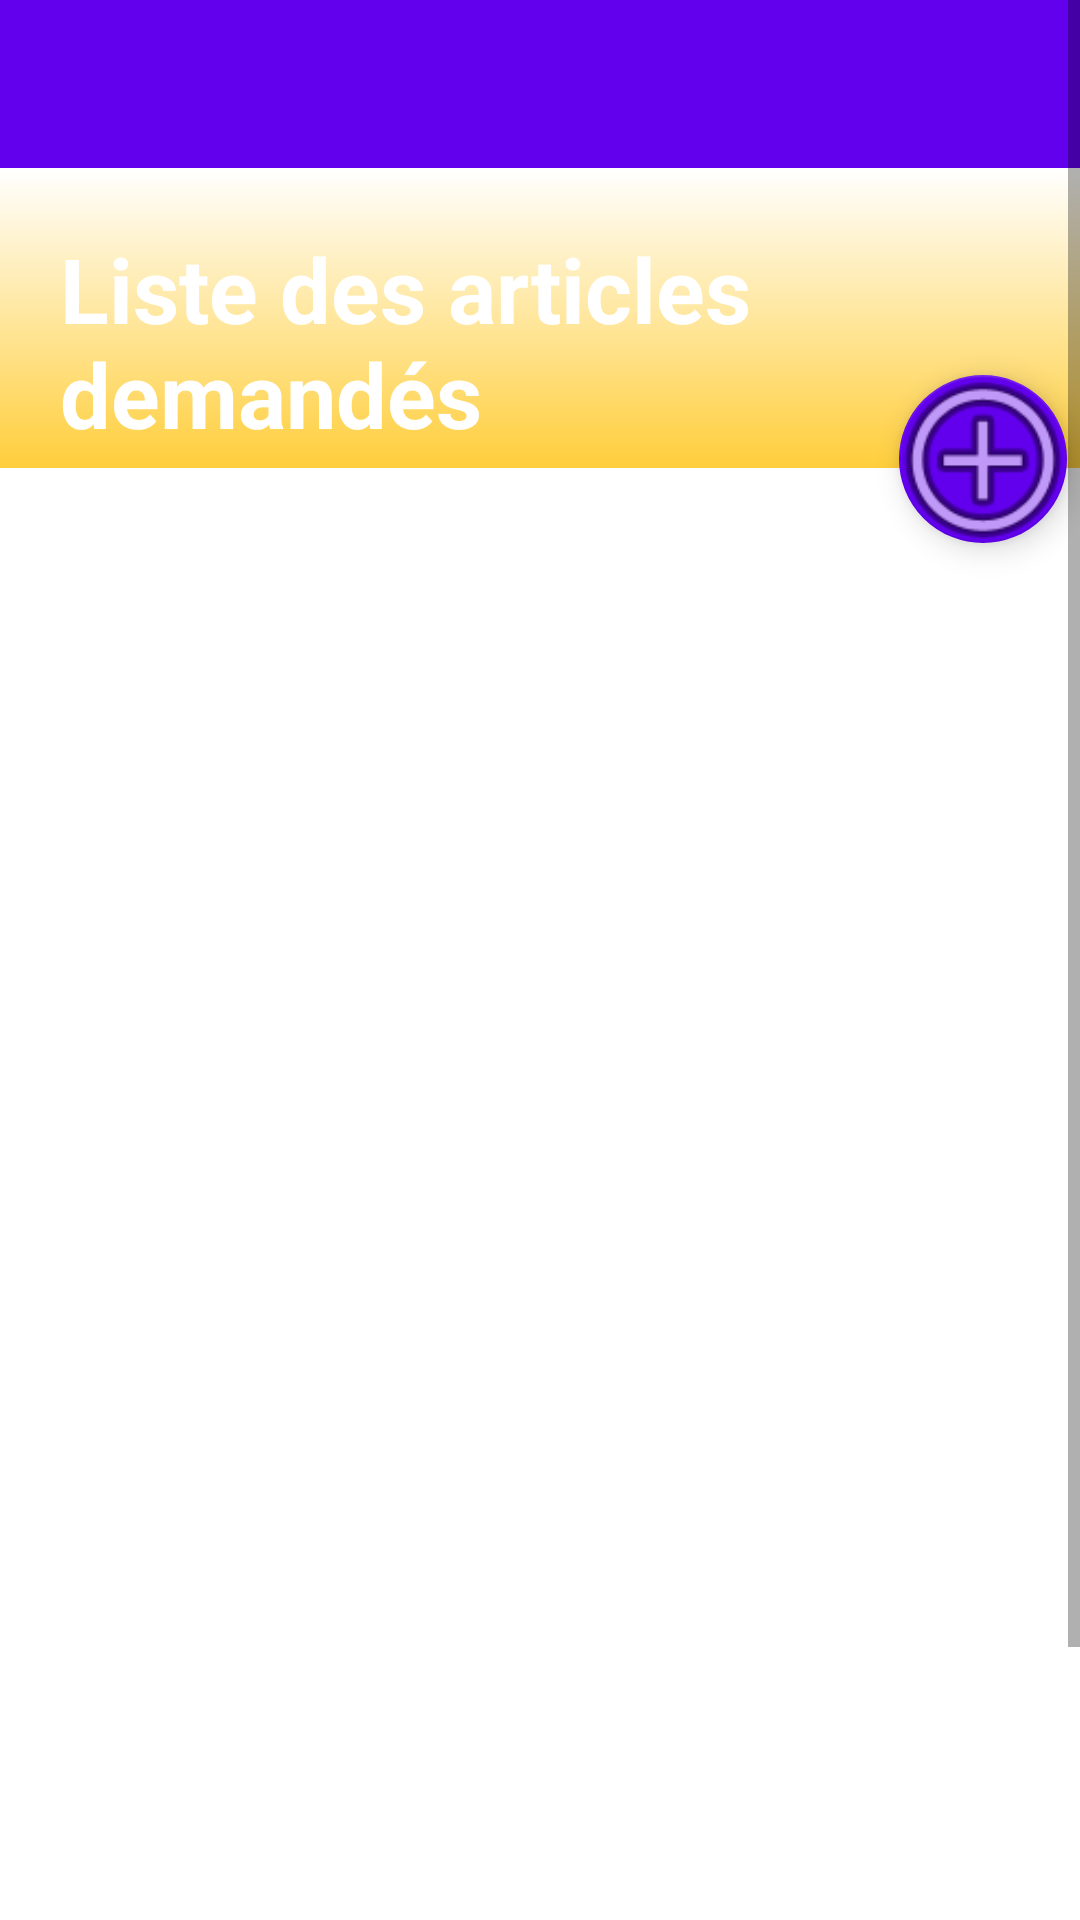

Icon click points for this 1080 × 1920 phone screenshot, format (x=x, y=y):
add: (x=983, y=459)
